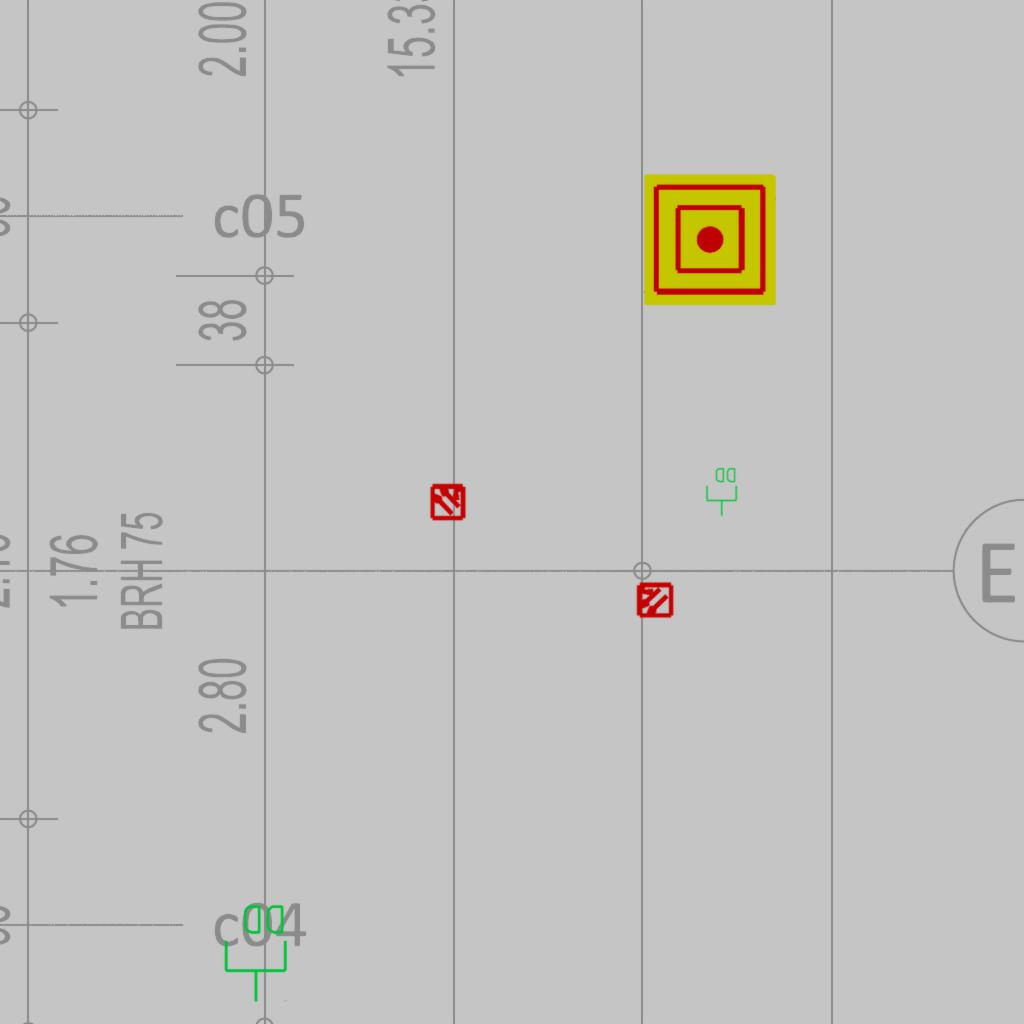Datenanschluss_zweifach: (222, 901, 291, 1004), (705, 466, 739, 517)
NAM-Nichtautomatischer_Melder: (644, 174, 776, 306)
OT_Multisensormelder_(Kombination_RMO_WMD): (420, 473, 476, 529), (626, 572, 682, 628)
